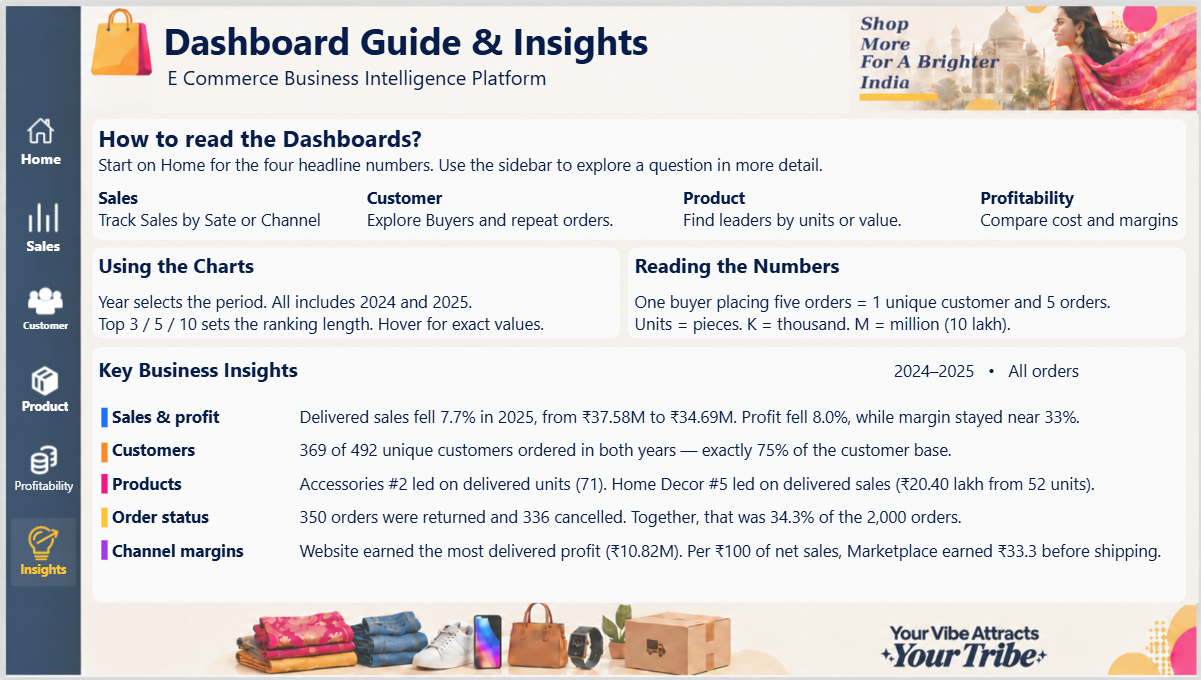

This screenshot's page, from the dashboard's own definition file:
{"tool":"powerbi","page":{"name":"Insights","canvas":[1920,1080],"ordinal":5},"visuals":[{"type":"actionButton","box":[16,164,92,110],"z":0},{"type":"actionButton","box":[14,434,104,106],"z":1},{"type":"actionButton","box":[14,562,104,110],"z":2},{"type":"actionButton","box":[6,686,120,114],"z":3},{"type":"actionButton","box":[14,304,104,108],"z":4},{"type":"actionButton","box":[14,822,104,110],"z":5},{"type":"textbox","box":[258,18,862,146],"z":6},{"type":"textbox","box":[154.4,187.8,1745.6,187.8],"z":7},{"type":"textbox","box":[154.4,395.6,820,133.3],"z":8},{"type":"textbox","box":[1011.1,395.6,874.4,133.3],"z":9},{"type":"textbox","box":[154.4,562.2,1731.1,390],"z":10},{"type":"shape","box":[154.2,645.3,20,31.6],"z":11},{"type":"shape","box":[154.2,752.1,20,31.6],"z":12},{"type":"shape","box":[154.2,805.8,20,31.6],"z":13},{"type":"shape","box":[154.2,857.9,20,31.6],"z":14},{"type":"shape","box":[154.2,701.6,20,31.6],"z":15}]}

Visuals, with their boxes on the page's 1920x1080 design canvas (x1, y1, x2, y2). These are canvas units, not pixel positions in the 1201x680 screenshot, which may show the page scaled, cropped or inside an application window:
actionButton: {"left": 16, "top": 164, "right": 108, "bottom": 274}
actionButton: {"left": 14, "top": 434, "right": 118, "bottom": 540}
actionButton: {"left": 14, "top": 562, "right": 118, "bottom": 672}
actionButton: {"left": 6, "top": 686, "right": 126, "bottom": 800}
actionButton: {"left": 14, "top": 304, "right": 118, "bottom": 412}
actionButton: {"left": 14, "top": 822, "right": 118, "bottom": 932}
textbox: {"left": 258, "top": 18, "right": 1120, "bottom": 164}
textbox: {"left": 154, "top": 188, "right": 1900, "bottom": 376}
textbox: {"left": 154, "top": 396, "right": 974, "bottom": 529}
textbox: {"left": 1011, "top": 396, "right": 1886, "bottom": 529}
textbox: {"left": 154, "top": 562, "right": 1886, "bottom": 952}
shape: {"left": 154, "top": 645, "right": 174, "bottom": 677}
shape: {"left": 154, "top": 752, "right": 174, "bottom": 784}
shape: {"left": 154, "top": 806, "right": 174, "bottom": 837}
shape: {"left": 154, "top": 858, "right": 174, "bottom": 890}
shape: {"left": 154, "top": 702, "right": 174, "bottom": 733}
